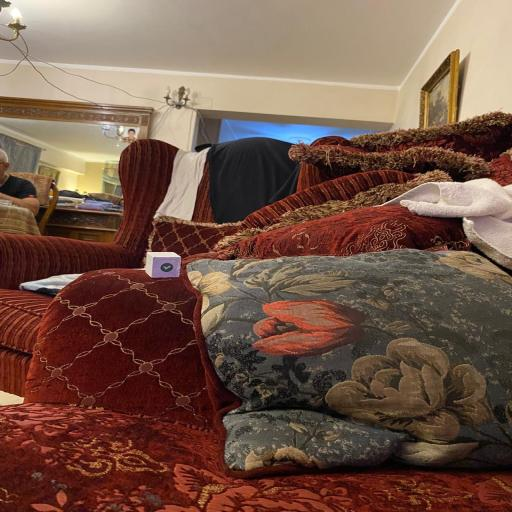Confirm: (144, 252, 182, 279)
